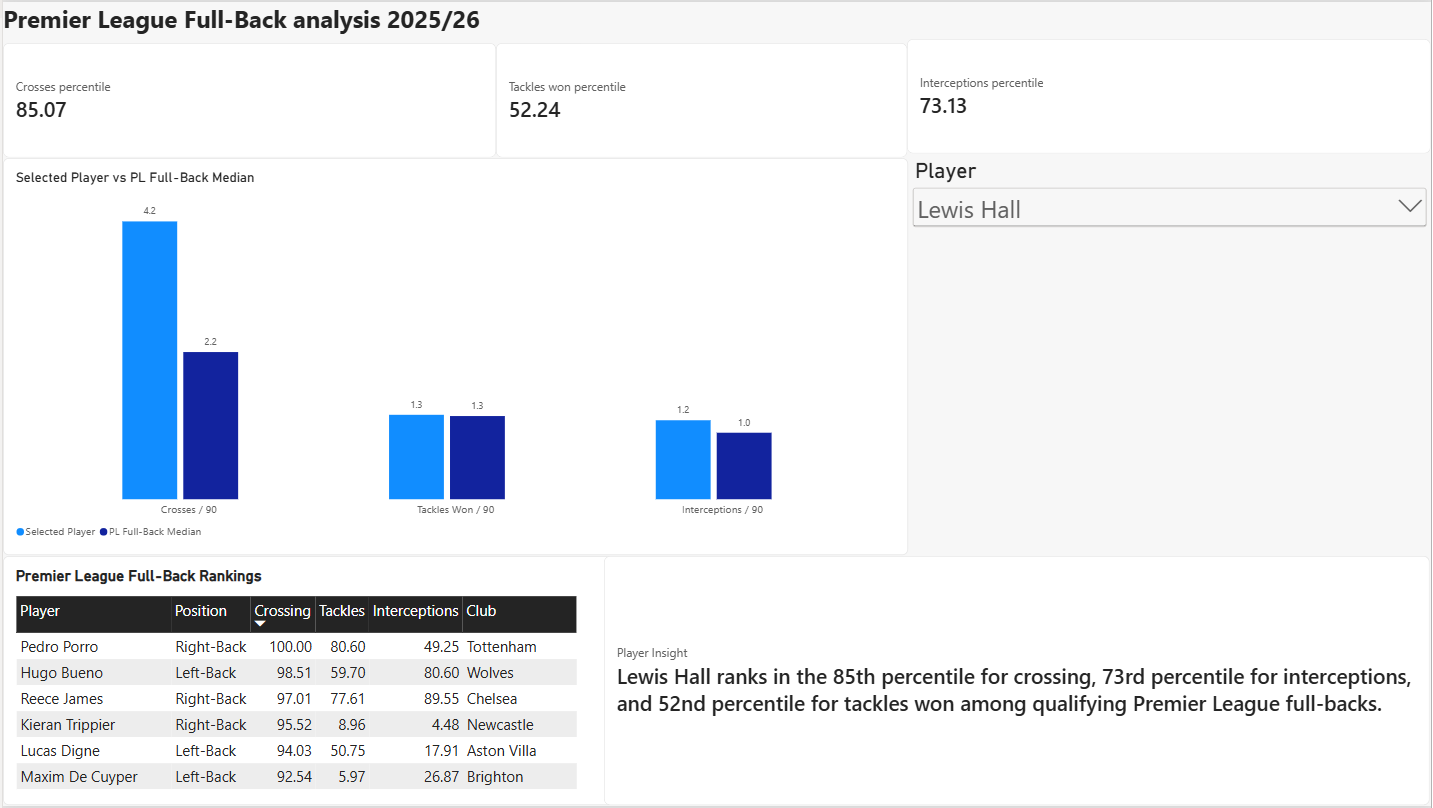

Layout of this report page (visuals, bound fields, positions):
{"tool":"powerbi","page":{"name":"Full back percentiles","canvas":[1920,1080],"ordinal":0},"visuals":[{"type":"tableEx","title":"Premier League Full-Back Rankings","fields":{"Values":["premier_league_fullbacks.Player","premier_league_fullbacks.position","premier_league_fullbacks.Crs_percentile","premier_league_fullbacks.TklW_percentile","premier_league_fullbacks.Int_percentile","premier_league_fullbacks.Squad"]},"box":[0,744.3,1918.3,335.2],"z":0},{"type":"cardVisual","fields":{"Data":["Sum(premier_league_fullbacks.Int_percentile)"]},"box":[1215.3,49.8,704.7,154.7],"z":1000},{"type":"cardVisual","fields":{"Data":["Sum(premier_league_fullbacks.TklW_percentile)"]},"box":[663.5,55,553.5,154.7],"z":2000},{"type":"cardVisual","fields":{"Data":["Sum(premier_league_fullbacks.Crs_percentile)"]},"box":[0,55,663.5,154.7],"z":3000},{"type":"clusteredColumnChart","title":"Selected Player vs PL Full-Back Median","fields":{"Category":["fullback_comparison.Metric"],"Y":["Sum(fullback_comparison.PlayerValue)","Sum(fullback_comparison.FullbackMedian)"]},"box":[0,209.7,1217.4,533.8],"z":4000},{"type":"slicer","fields":{"Values":["premier_league_fullbacks.Player"]},"box":[1218.7,209.7,700.8,533.8],"z":5000},{"type":"textbox","box":[0,0,776.9,99.7],"z":7000},{"type":"cardVisual","fields":{"Data":["fullback_comparison.Player Insight"]},"box":[807.9,744.3,1110.4,335.2],"z":7001}]}

Visuals, with their boxes in screenshot pixels (x1, y1, x2, y2), scaled from the page's 1920x1080 canvas onto the 1433x808 screenshot:
"Premier League Full-Back Rankings" tableEx: [0, 557, 1432, 807]
cardVisual - Sum(premier_league_fullbacks.Int_percentile): [907, 37, 1432, 153]
cardVisual - Sum(premier_league_fullbacks.TklW_percentile): [495, 41, 908, 157]
cardVisual - Sum(premier_league_fullbacks.Crs_percentile): [0, 41, 495, 157]
"Selected Player vs PL Full-Back Median" clusteredColumnChart: [0, 157, 909, 556]
slicer - premier_league_fullbacks.Player: [910, 157, 1432, 556]
textbox: [0, 0, 580, 75]
cardVisual - fullback_comparison.Player Insight: [603, 557, 1432, 807]
